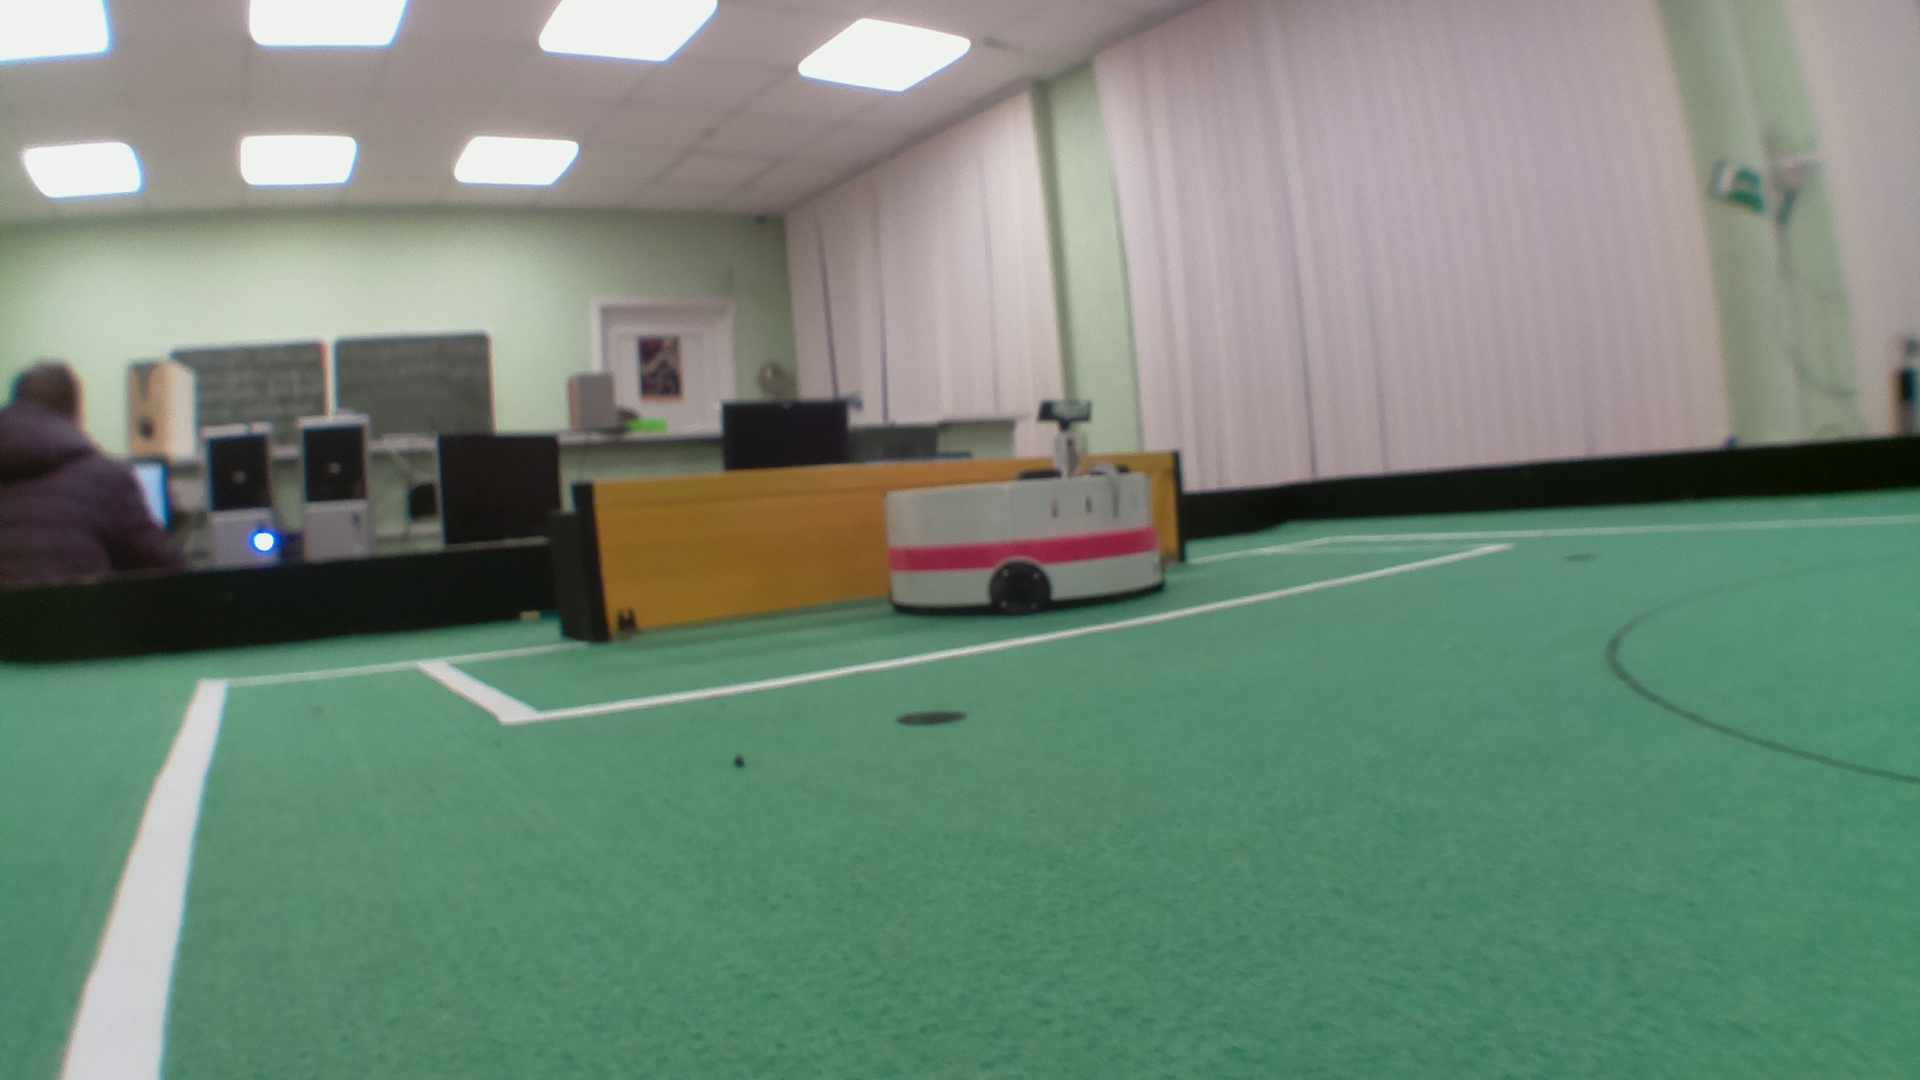YellowGoal: (579, 462, 899, 641)
